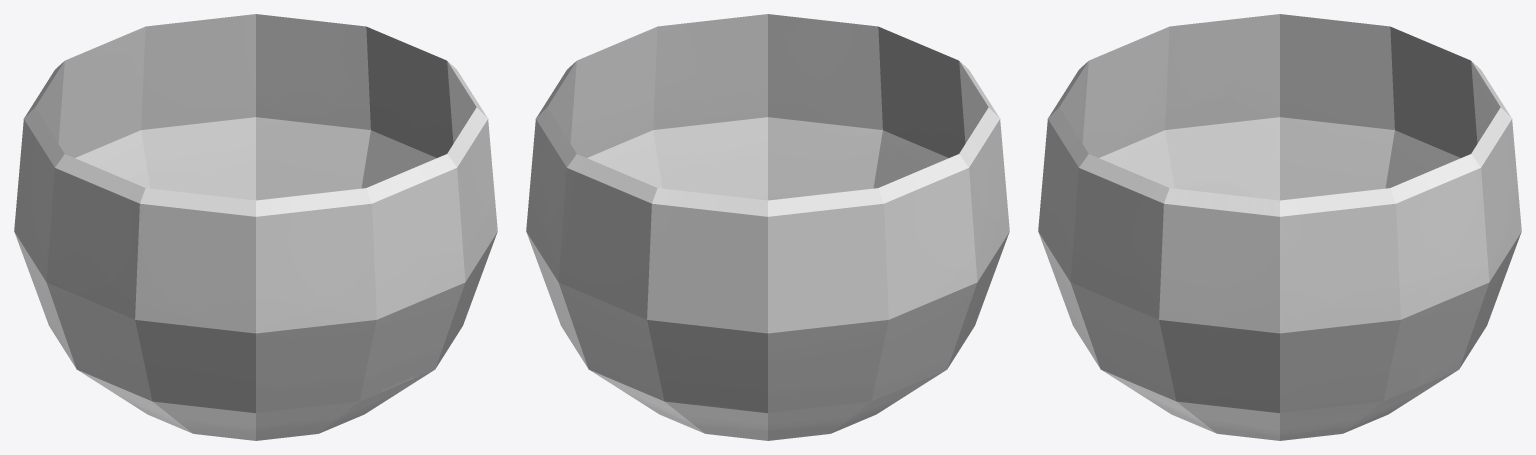
The model's file is EggShell1.fbx.
3 views of the same model, side by side, from view 1: azimuth 30°, elevation 25°; view 2: azimuth 150°, elevation 25°; view 3: azimuth 270°, elevation 25° (orthographic).
Visible parts, largest first — view 1: EggShell1; view 2: EggShell1; view 3: EggShell1.
Boxes of the visible parts, x1,y1,x2,y2 form: EggShell1: (14, 14, 497, 440); EggShell1: (526, 14, 1009, 440); EggShell1: (1038, 14, 1521, 440).
Bounding box in the file's own units: 36.66 × 24.56 × 36.66.
